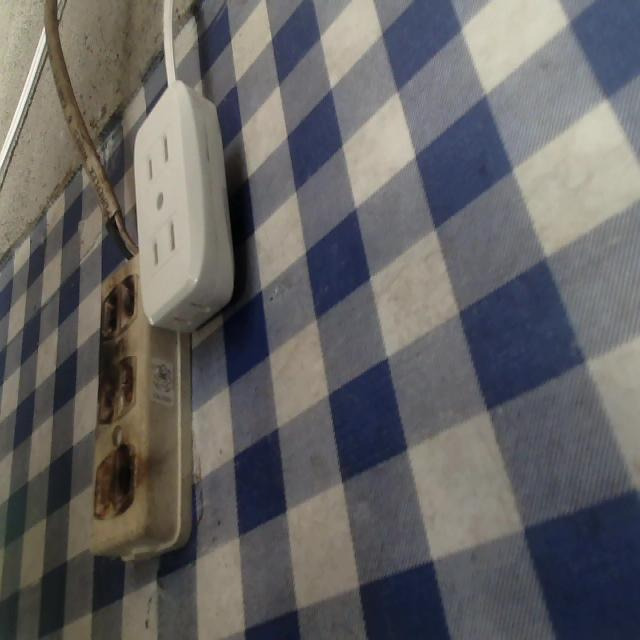-: (90, 445, 136, 523), (96, 278, 147, 342), (93, 358, 142, 422)
